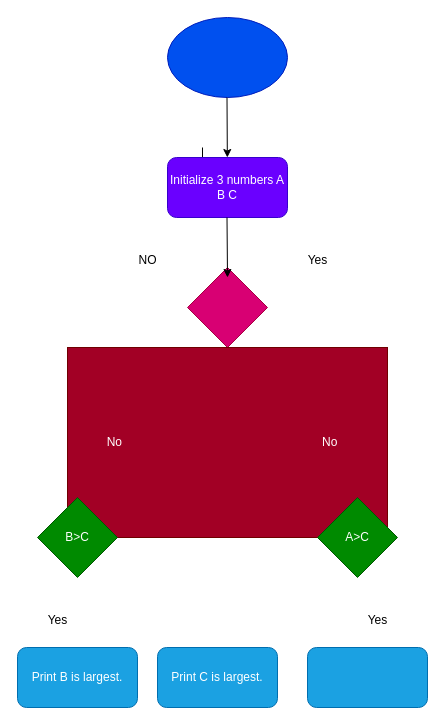
This 445x725 diagram has some shape labels left out. Each missing label, with the centre of its shape:
"A>B" belongs at (x=227, y=307).
"Start" belongs at (x=227, y=57).
